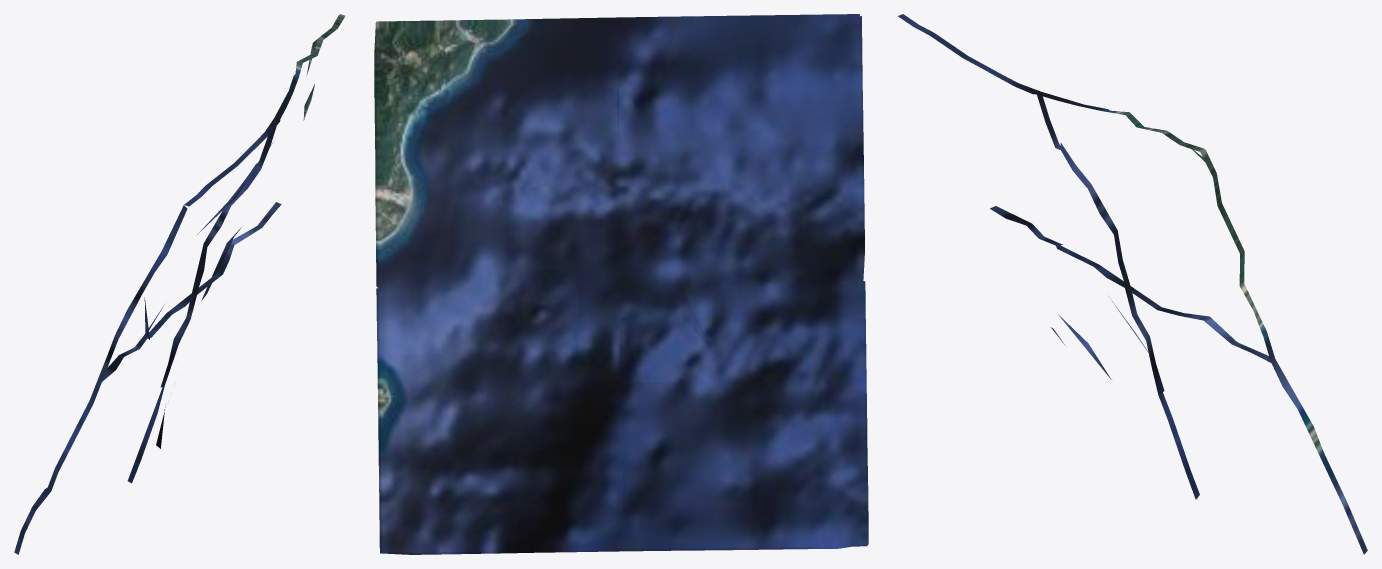
3 views of the same model, side by side, from view 1: azimuth 30°, elevation 25°; view 2: azimuth 150°, elevation 25°; view 3: azimuth 270°, elevation 25° (orthographic). The views are drawn at different scales.
Bounding box in the file's own units: 36988 × 38507 × 35188.
Materials: 1 (1 with a texture image).
